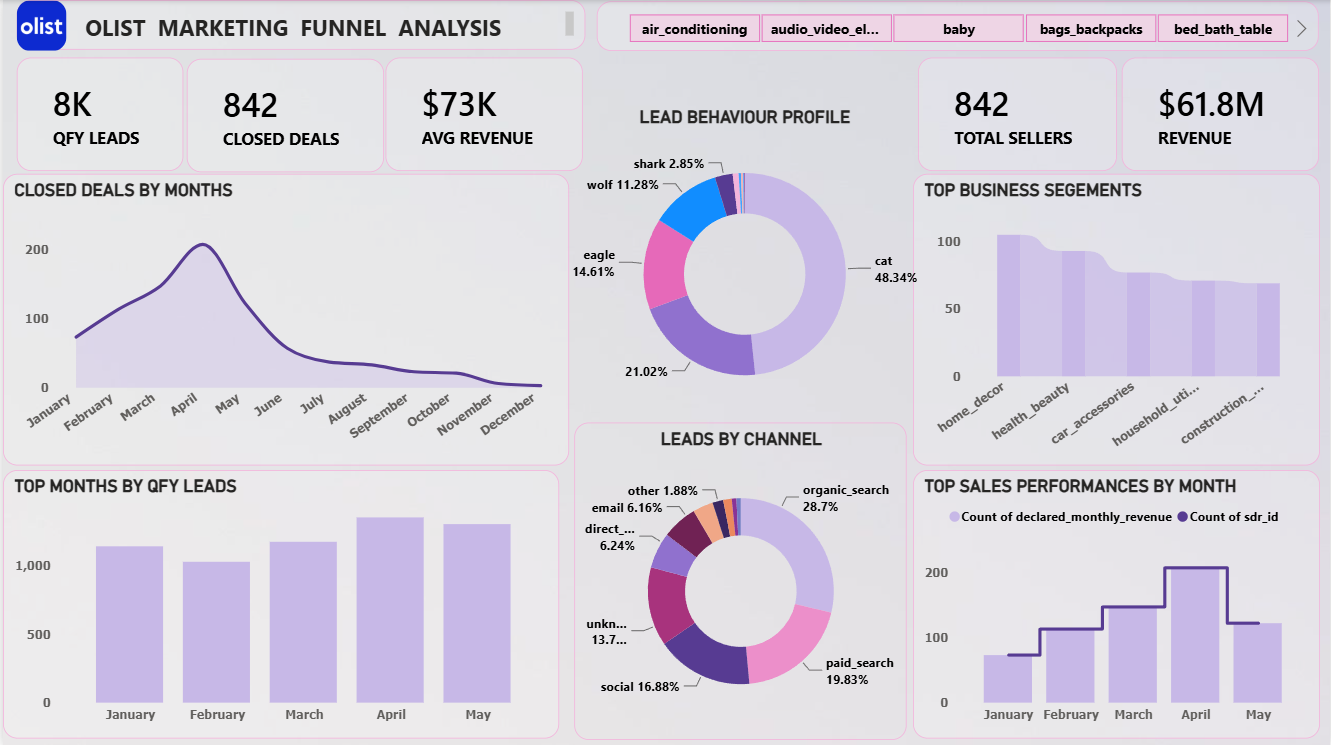

The dashboard page shown, as its layout file describes it:
{"tool":"powerbi","page":{"name":"Page 1","canvas":[1280,720],"ordinal":0},"visuals":[{"type":"textbox","box":[13.3,0,548.9,48.3],"z":0},{"type":"clusteredColumnChart","title":"TOP MONTHS BY QFY LEADS ","fields":{"Category":["olist_marketing_qualified_leads_dataset.first_contact_date.Variation.Date Hierarchy.Month"],"Y":["CountNonNull(olist_marketing_qualified_leads_dataset.mql_id)"]},"box":[0,454.2,536.5,259.3],"z":1000},{"type":"areaChart","title":"CLOSED DEALS BY MONTHS ","fields":{"Y":["CountNonNull(olist_closed_deals_dataset.mql_id)"],"Category":["olist_closed_deals_dataset.won_date..Variation.Date Hierarchy.Month"]},"box":[0,167.4,546.1,281.3],"z":2000},{"type":"ribbonChart","title":"TOP BUSINESS SEGEMENTS ","fields":{"Category":["olist_closed_deals_dataset.business_segment"],"Y":["CountNonNull(olist_closed_deals_dataset.mql_id)"]},"box":[878.2,167.4,392.5,281.3],"z":3000},{"type":"donutChart","title":"LEAD BEHAVIOUR PROFILE","fields":{"Y":["CountNonNull(olist_closed_deals_dataset.mql_id)"],"Category":["olist_closed_deals_dataset.lead_behaviour_profile"]},"box":[536.9,102.5,358.3,305.2],"z":4000},{"type":"lineClusteredColumnComboChart","title":"TOP SALES PERFORMANCES BY MONTH","fields":{"Category":["olist_closed_deals_dataset.won_date..Variation.Date Hierarchy.Month"],"Y":["CountNonNull(olist_closed_deals_dataset.declared_monthly_revenue)"],"Y2":["CountNonNull(olist_closed_deals_dataset.sdr_id)"]},"box":[878.2,454.2,392.5,259.3],"z":5000},{"type":"donutChart","title":"LEADS BY CHANNEL","fields":{"Y":["CountNonNull(olist_marketing_qualified_leads_dataset.mql_id)"],"Category":["olist_marketing_qualified_leads_dataset.origin"]},"box":[551.6,407.5,321.1,306],"z":6000},{"type":"cardVisual","fields":{"Data":["olist_closed_deals_dataset.QFY LEADS"]},"box":[13.3,55.5,160.5,109.8],"z":7000},{"type":"cardVisual","fields":{"Data":["olist_closed_deals_dataset.CLOSED DELAS"]},"box":[177.3,56.7,190.6,109.8],"z":8000},{"type":"cardVisual","fields":{"Data":["olist_closed_deals_dataset.AVG REVENUE"]},"box":[369.2,55.5,190.6,109.8],"z":9000},{"type":"cardVisual","fields":{"Data":["olist_closed_deals_dataset.TOTAL SELLERS"]},"box":[883.1,55.5,191.8,109.8],"z":10000},{"type":"cardVisual","fields":{"Data":["olist_closed_deals_dataset.TOTAL REVENUE"]},"box":[1079.8,55.5,190.6,109.8],"z":11000},{"type":"image","box":[13.3,0,48.3,49.5],"z":12000},{"type":"slicer","fields":{"Values":["olist_closed_deals_dataset.business_segment"]},"box":[573.6,1.4,697.1,48],"z":13000}]}

Visuals, with their boxes in screenshot pixels (x1, y1, x2, y2), scaled from the page's 1280x720 canvas onto the 1331x745 screenshot:
textbox: bbox=[14, 0, 585, 50]
"TOP MONTHS BY QFY LEADS " clusteredColumnChart: bbox=[0, 470, 558, 738]
"CLOSED DEALS BY MONTHS " areaChart: bbox=[0, 173, 568, 464]
"TOP BUSINESS SEGEMENTS " ribbonChart: bbox=[913, 173, 1321, 464]
"LEAD BEHAVIOUR PROFILE" donutChart: bbox=[558, 106, 931, 422]
"TOP SALES PERFORMANCES BY MONTH" lineClusteredColumnComboChart: bbox=[913, 470, 1321, 738]
"LEADS BY CHANNEL" donutChart: bbox=[574, 422, 907, 738]
cardVisual - olist_closed_deals_dataset.QFY LEADS: bbox=[14, 57, 181, 171]
cardVisual - olist_closed_deals_dataset.CLOSED DELAS: bbox=[184, 59, 383, 172]
cardVisual - olist_closed_deals_dataset.AVG REVENUE: bbox=[384, 57, 582, 171]
cardVisual - olist_closed_deals_dataset.TOTAL SELLERS: bbox=[918, 57, 1118, 171]
cardVisual - olist_closed_deals_dataset.TOTAL REVENUE: bbox=[1123, 57, 1321, 171]
image: bbox=[14, 0, 64, 51]
slicer - olist_closed_deals_dataset.business_segment: bbox=[596, 1, 1321, 51]
